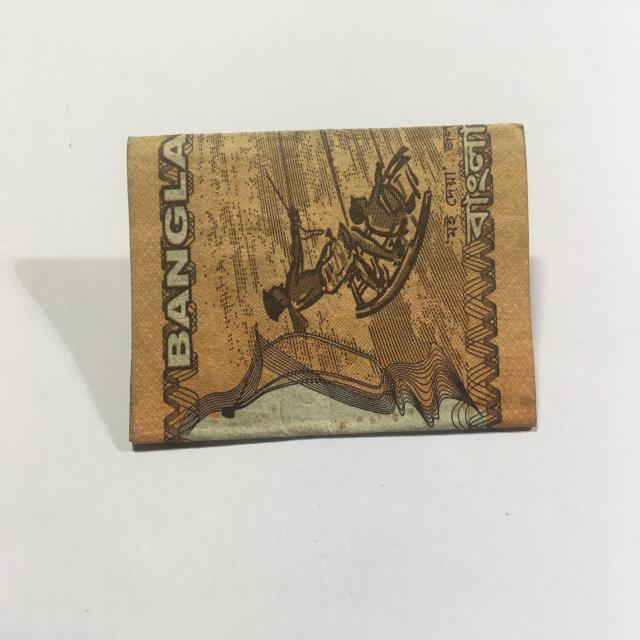Taka: (111, 127, 545, 456)
